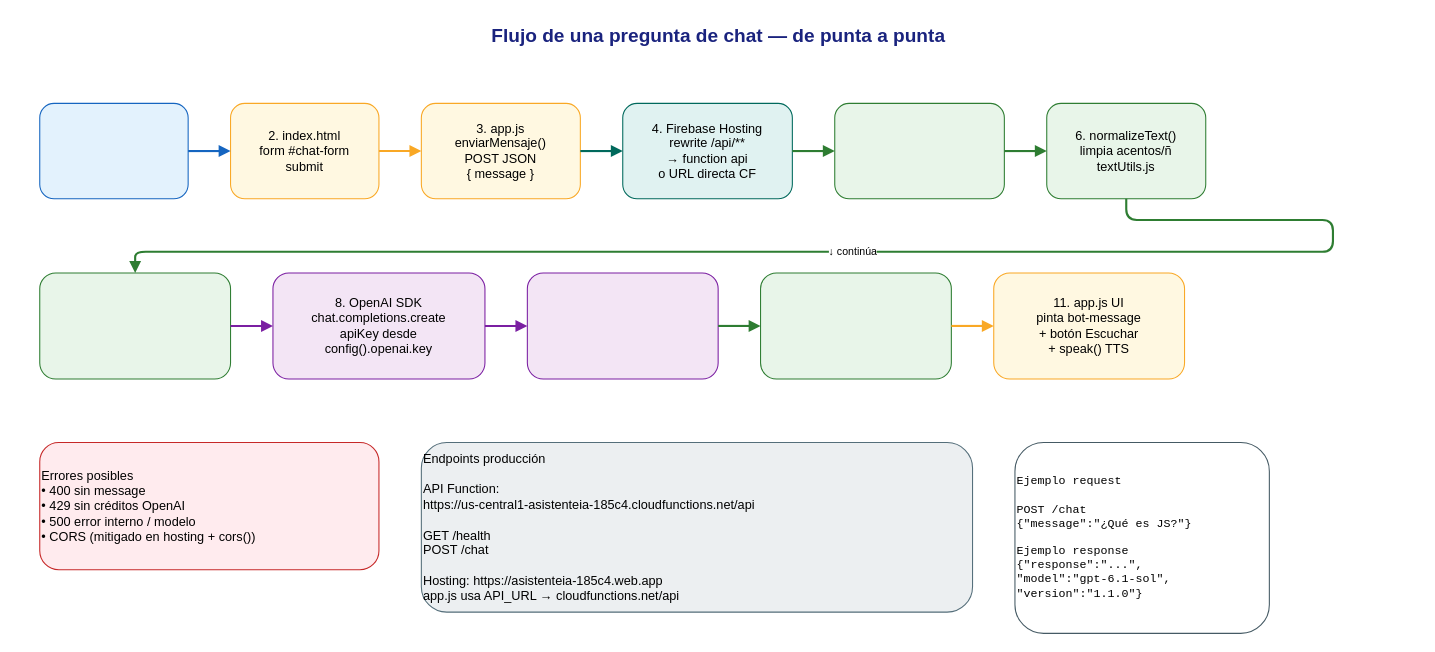
Image size: 1435x652. Some labels were removed from this diagram. The shapes that lost their labels are listed below. From the top down, each one's centre as x and y in pixels, then its label:
At (x=113, y=150): "1. Usuario Escribe o dicta mensaje".
At (x=919, y=150): "5. Cloud Function Express POST /chat valida body.message".
At (x=135, y=325): "7. ASISTENTE_CONFIG systemPrompt + model gpt-6.1-sol reasoning low".
At (x=622, y=325): "9. OpenAI API genera respuesta especializada en tech".
At (x=855, y=325): "10. Response JSON { response, model, version: 1.1.0 }".
